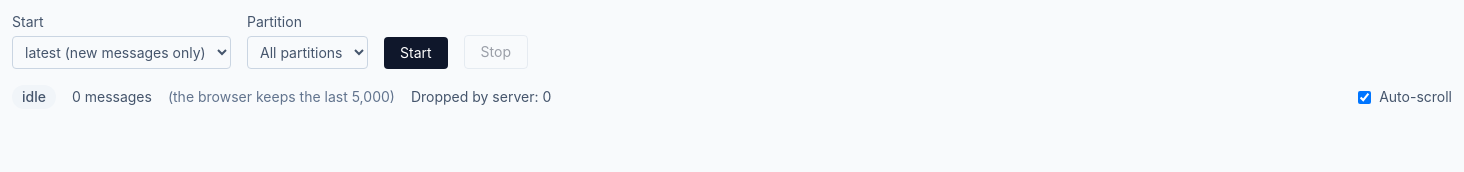
Test: LiveTab › adds up dropped frames into the server-dropped counter
The image size is (1464, 172).
Click the button "Start".
click(416, 53)  # box [384,37,448,69]
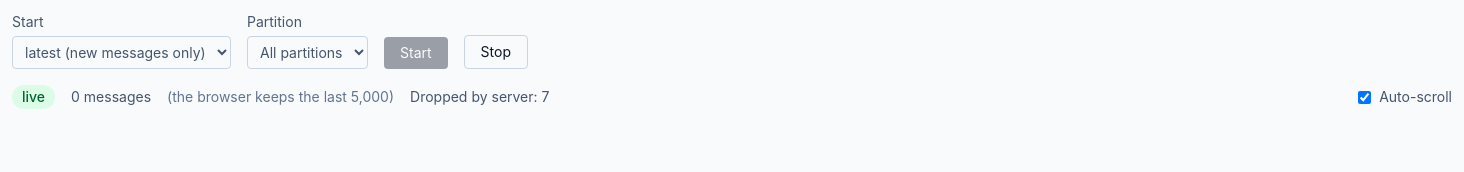
Expected: the text "Dropped by server: 7" is shown, [410,87,549,107]
